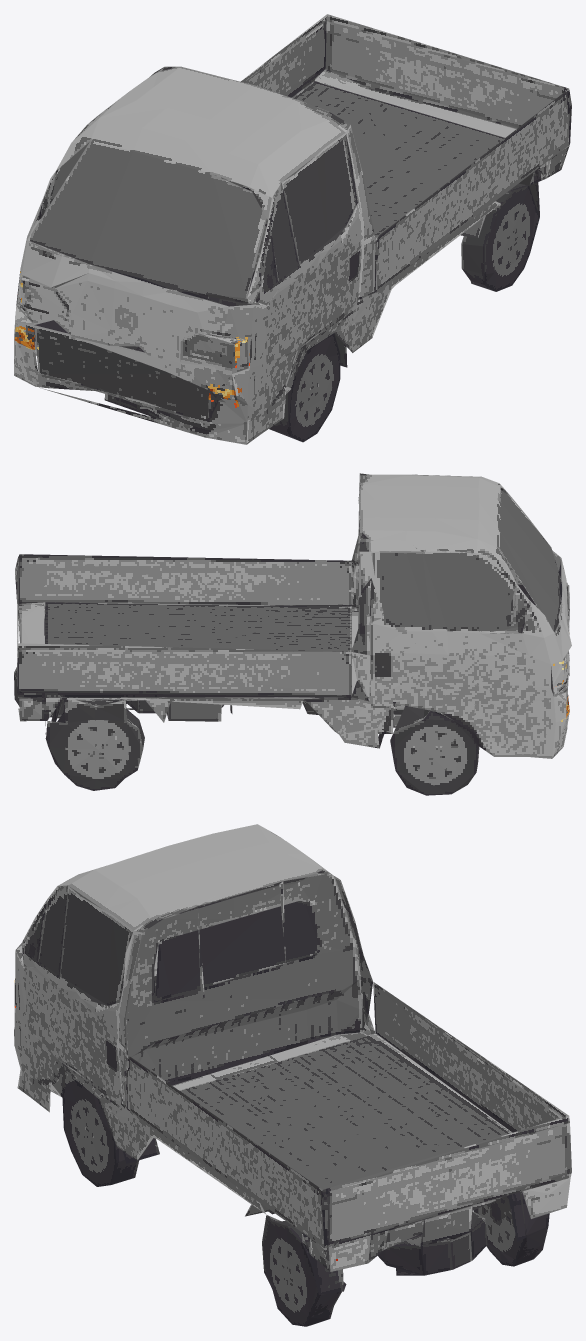
Rendered from keitruck.glb.
The picture shows the model from 3 angles, top to bottom: view 1: azimuth 30°, elevation 25°; view 2: azimuth 150°, elevation 25°; view 3: azimuth 270°, elevation 25°; orthographic projection. The views are drawn at different scales.
Parts seen in each view (by area): view 1: model_v; view 2: model_v; view 3: model_v.
Boxes of the visible parts, x1,y1,x2,y2 form: model_v: (14,14,571,444); model_v: (14,473,571,795); model_v: (14,824,571,1326).
Bounding box in the file's own units: 43.79 × 20.66 × 34.95.
1 material, 1 textured.
